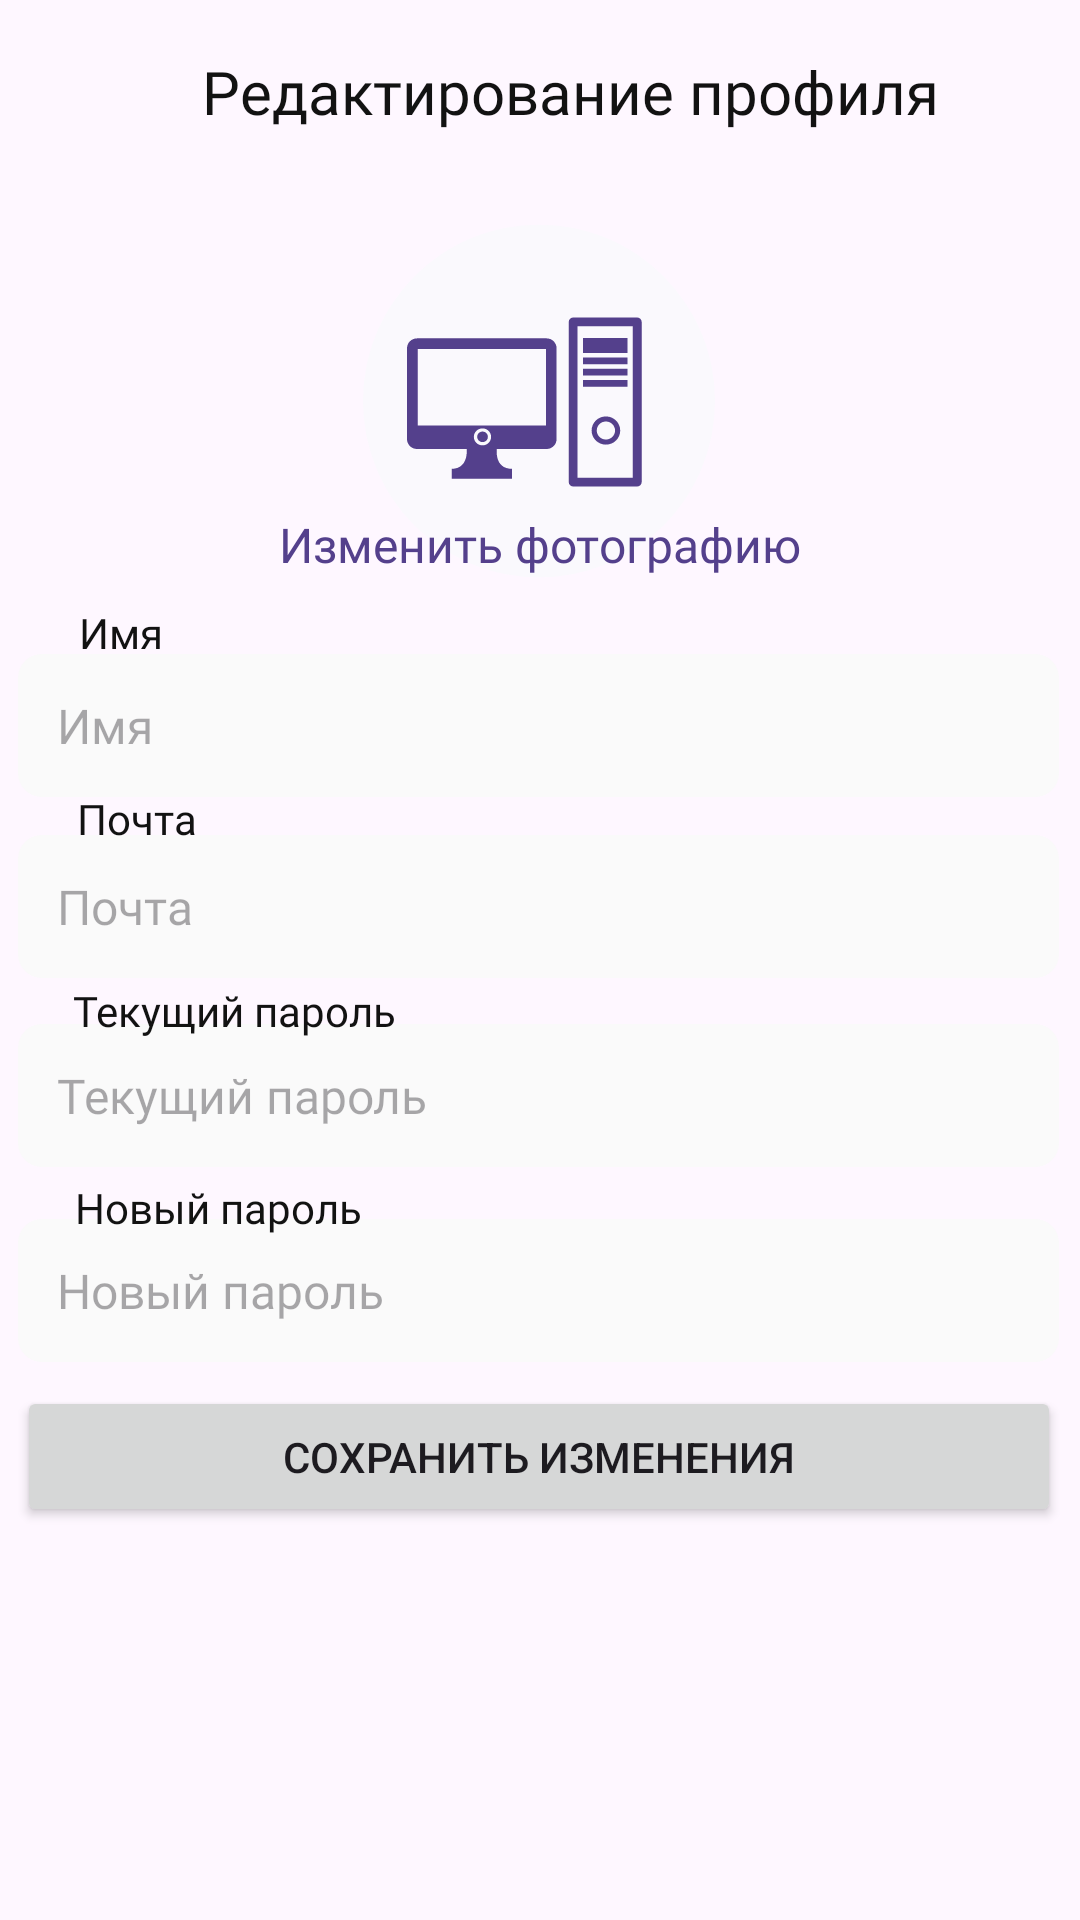

Locate icon controls on the screen. Image size 1080 x 1920, boxes as detection(x1, y1, x2, y2).
game station: detection(375, 317, 697, 573)
